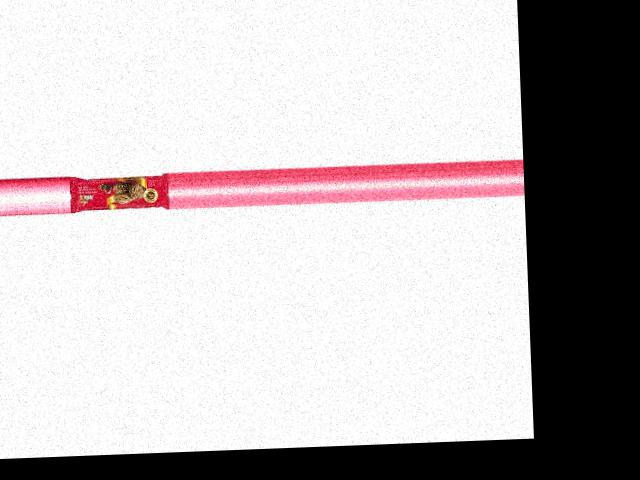chocolate: (68, 169, 167, 212)
